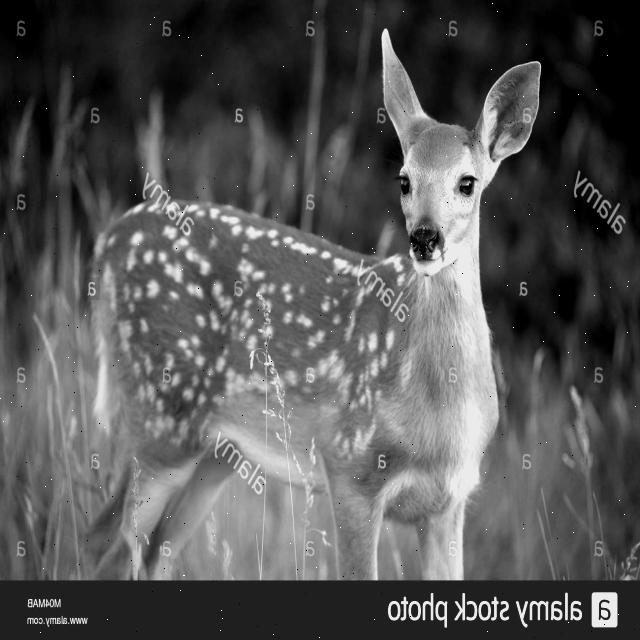deer: (351, 4, 558, 309)
